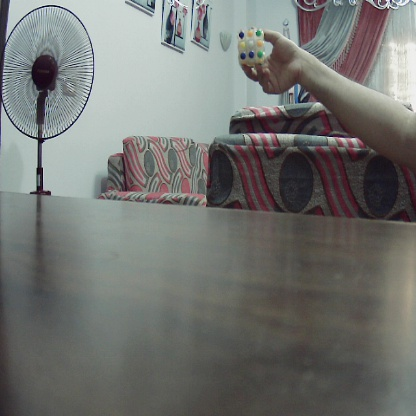Rubix Cube: (237, 30, 266, 64)
